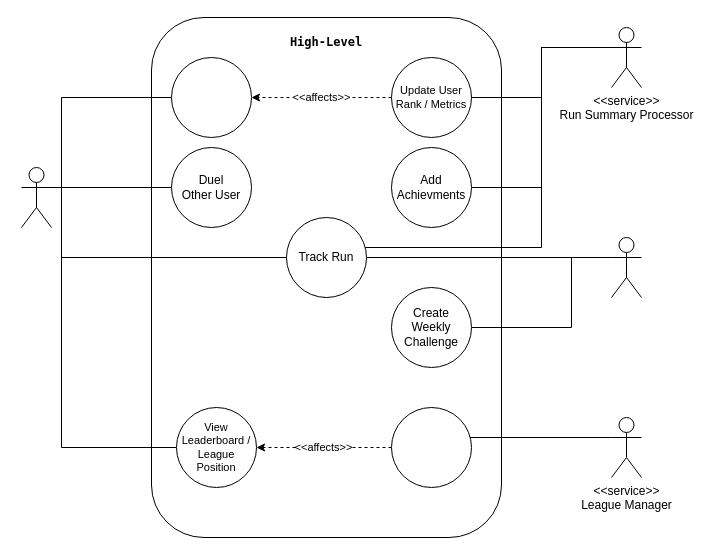
Some shapes in this 711 by 555 pixel diagram are drawn without their labels. The shapes that lost their labels are listed below. From the top down, each one's centre as x and y in pixels, then its label:
At (x=211, y=97): "View Profile / Metrics".
At (x=36, y=197): "Runner".
At (x=626, y=267): "<<service>> Challenge Manager".
At (x=431, y=447): "Start / End League Season".
